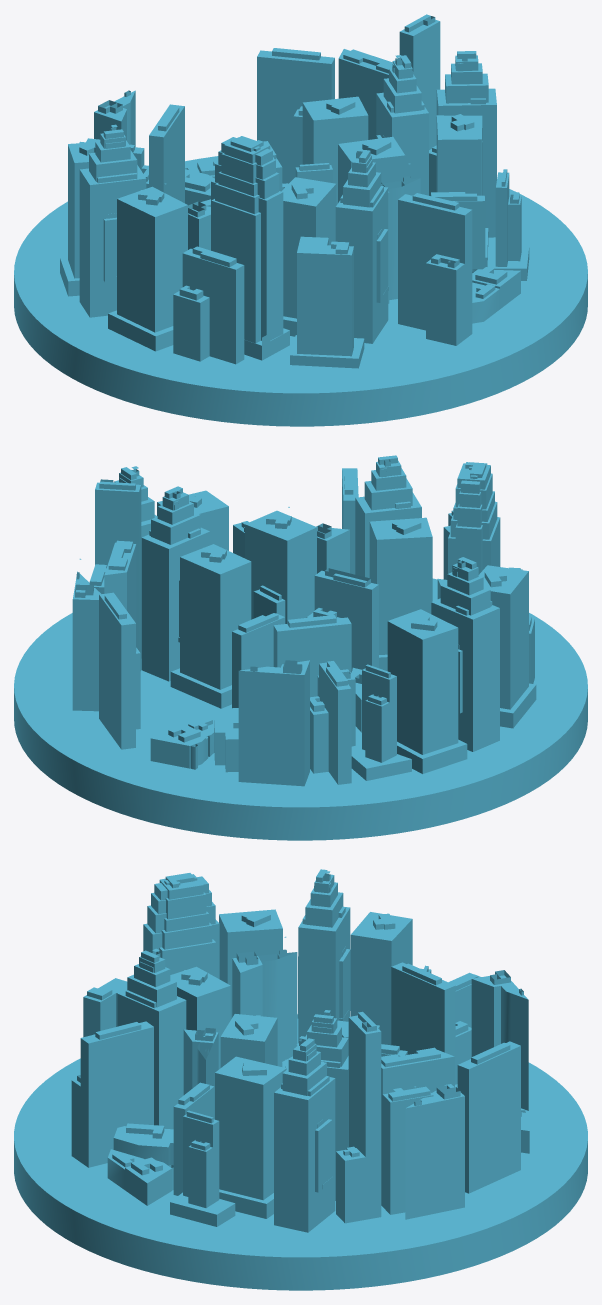
The model's file is CityMap.obj.
3 views of the same model, one above another, from view 1: azimuth 30°, elevation 25°; view 2: azimuth 150°, elevation 25°; view 3: azimuth 270°, elevation 25° (orthographic).
Parts seen in each view (by area): view 1: FHCHS_Disk_Face, FacadeTexture_1_mat, FacadeTexture_2_mat, FacadeTexture_9_mat, FacadeTexture_10_mat, FlatRoofTexture_5_mat, FacadeTexture_3_mat, FacadeTexture_8_mat, FlatRoofTexture_4_mat, FacadeTexture_mat, FlatRoofTexture_9_mat, FlatRoofTexture_3_mat (+7 smaller); view 2: FHCHS_Disk_Face, FacadeTexture_2_mat, FacadeTexture_1_mat, FacadeTexture_9_mat, FacadeTexture_3_mat, FlatRoofTexture_5_mat, FacadeTexture_10_mat, FacadeTexture_8_mat, FlatRoofTexture_4_mat, FacadeTexture_14_mat, FlatRoofTexture_3_mat, FlatRoofTexture_1_mat (+8 smaller); view 3: FHCHS_Disk_Face, FacadeTexture_1_mat, FacadeTexture_9_mat, FacadeTexture_2_mat, FacadeTexture_3_mat, FacadeTexture_8_mat, FacadeTexture_10_mat, FlatRoofTexture_5_mat, FacadeTexture_mat, FlatRoofTexture_3_mat, FacadeTexture_14_mat, FlatRoofTexture_4_mat (+8 smaller).
Boxes of the visible parts, x1,y1,x2,y2 form: FHCHS_Disk_Face: (14, 156, 587, 426); FacadeTexture_1_mat: (130, 51, 529, 364); FacadeTexture_2_mat: (60, 102, 488, 368); FacadeTexture_9_mat: (79, 52, 496, 343); FacadeTexture_10_mat: (211, 141, 289, 360); FlatRoofTexture_5_mat: (68, 19, 509, 275); FacadeTexture_3_mat: (94, 90, 420, 303); FacadeTexture_8_mat: (399, 16, 440, 195); FlatRoofTexture_4_mat: (60, 49, 529, 358); FacadeTexture_mat: (338, 55, 388, 139); FlatRoofTexture_9_mat: (89, 52, 488, 345); FlatRoofTexture_3_mat: (94, 48, 520, 302); FHCHS_Disk_Face: (14, 578, 587, 840); FacadeTexture_2_mat: (157, 496, 536, 773); FacadeTexture_1_mat: (99, 470, 534, 784); FacadeTexture_9_mat: (114, 458, 499, 751); FacadeTexture_3_mat: (72, 523, 440, 786); FlatRoofTexture_5_mat: (95, 466, 528, 732); FacadeTexture_10_mat: (448, 464, 500, 574); FacadeTexture_8_mat: (95, 479, 141, 670); FlatRoofTexture_4_mat: (79, 468, 535, 768); FacadeTexture_14_mat: (150, 674, 361, 769); FlatRoofTexture_3_mat: (73, 456, 534, 745); FlatRoofTexture_1_mat: (74, 462, 522, 732); FHCHS_Disk_Face: (14, 1015, 587, 1290); FacadeTexture_1_mat: (71, 966, 520, 1226); FacadeTexture_9_mat: (118, 870, 350, 1232); FacadeTexture_2_mat: (83, 915, 412, 1218); FacadeTexture_3_mat: (183, 949, 528, 1219); FacadeTexture_8_mat: (336, 1013, 381, 1223); FacadeTexture_10_mat: (143, 877, 219, 978); FlatRoofTexture_5_mat: (84, 881, 430, 1170); FacadeTexture_mat: (381, 1051, 454, 1214); FlatRoofTexture_3_mat: (96, 871, 529, 1183); FacadeTexture_14_mat: (107, 1066, 529, 1205); FlatRoofTexture_4_mat: (80, 890, 520, 1214).
Size of what is drawn, in the model's own units: 1.02 by 0.4621 by 1.02.
